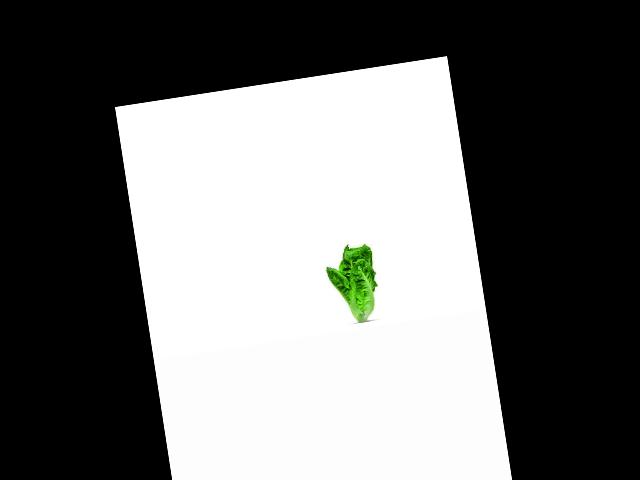lettuce: (322, 240, 385, 323)
